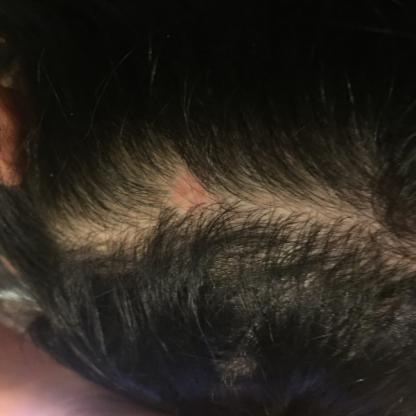Bed Bug: (168, 200, 216, 252)
